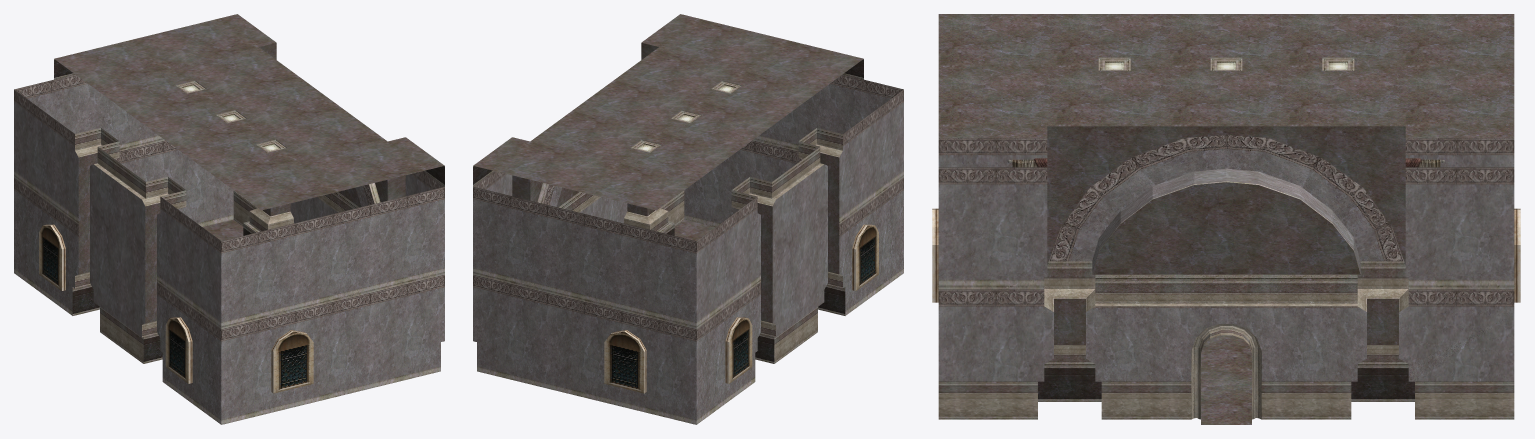
The model's file is ply_corl_capitol_s01_r4_mayoroffice_mesh_r4.fbx.
3 views of the same model, side by side, from view 1: azimuth 30°, elevation 25°; view 2: azimuth 150°, elevation 25°; view 3: azimuth 270°, elevation 25° (orthographic). The views are drawn at different scales.
Parts seen in each view (by area): view 1: mesh_node; view 2: mesh_node; view 3: mesh_node.
Boxes of the visible parts, left/top/right/bottom form: mesh_node: left=14, top=14, right=444, bottom=424; mesh_node: left=473, top=14, right=903, bottom=424; mesh_node: left=932, top=14, right=1520, bottom=424.
Size of the model in its own units: 11.6 by 9.8 by 18.4.
